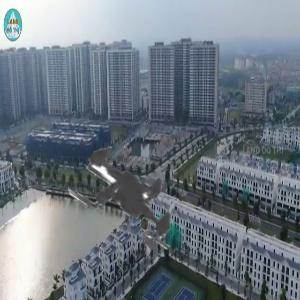drone: (27, 79, 241, 293)
